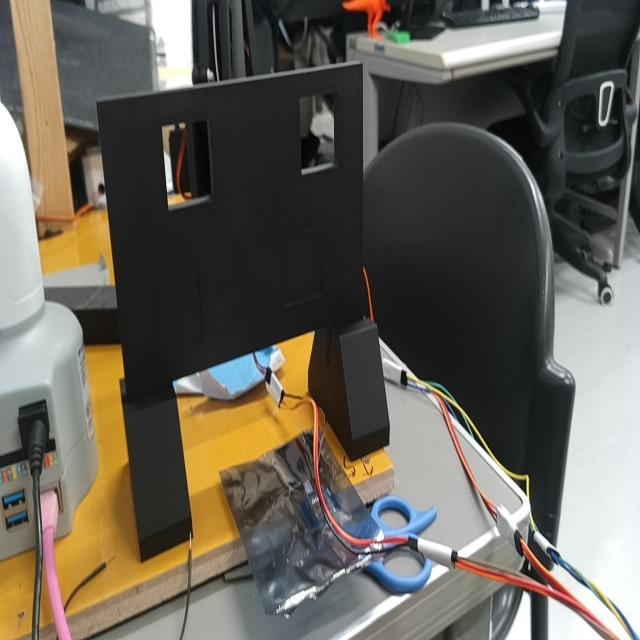Obstacle: (161, 121, 212, 211), (299, 96, 336, 172)
Wall: (96, 64, 363, 388)
